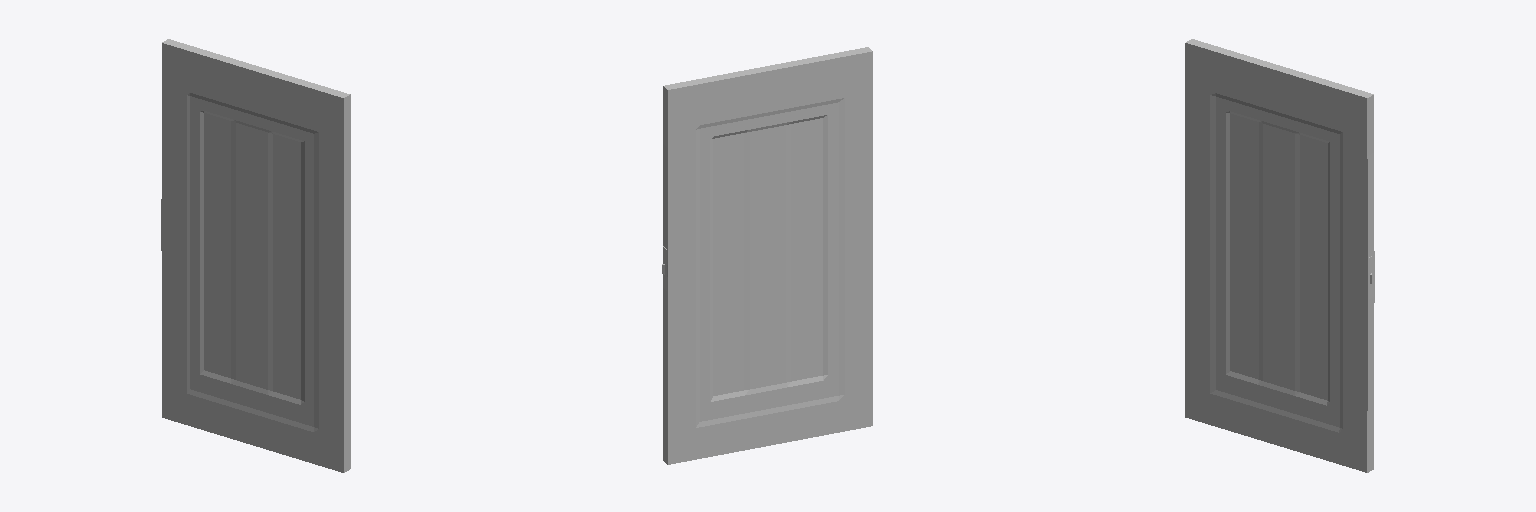
File: panel.obj
3 views of the same model, side by side, from view 1: azimuth 90°, elevation 25°; view 2: azimuth 150°, elevation 25°; view 3: azimuth 270°, elevation 25° (orthographic).
Visible parts, largest first — view 1: DoorBoddy_Cube.001; view 2: DoorBoddy_Cube.001; view 3: DoorBoddy_Cube.001.
Boxes of the visible parts, box(x1,y1,x2,y2) form: DoorBoddy_Cube.001: box(161, 39, 350, 472); DoorBoddy_Cube.001: box(662, 47, 872, 464); DoorBoddy_Cube.001: box(1185, 39, 1374, 472).
Bounding box in the file's own units: 1.2 × 3.51 × 1.61.